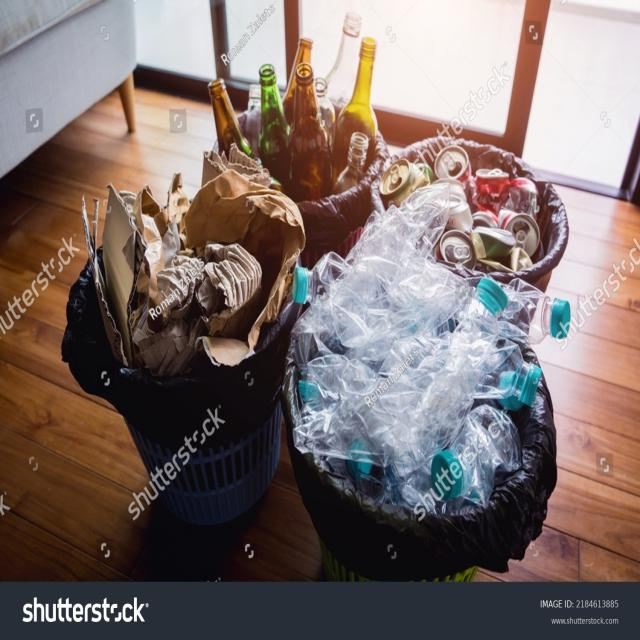glass: (234, 55, 372, 179)
metal: (418, 147, 536, 254)
plastic: (338, 268, 521, 486)
